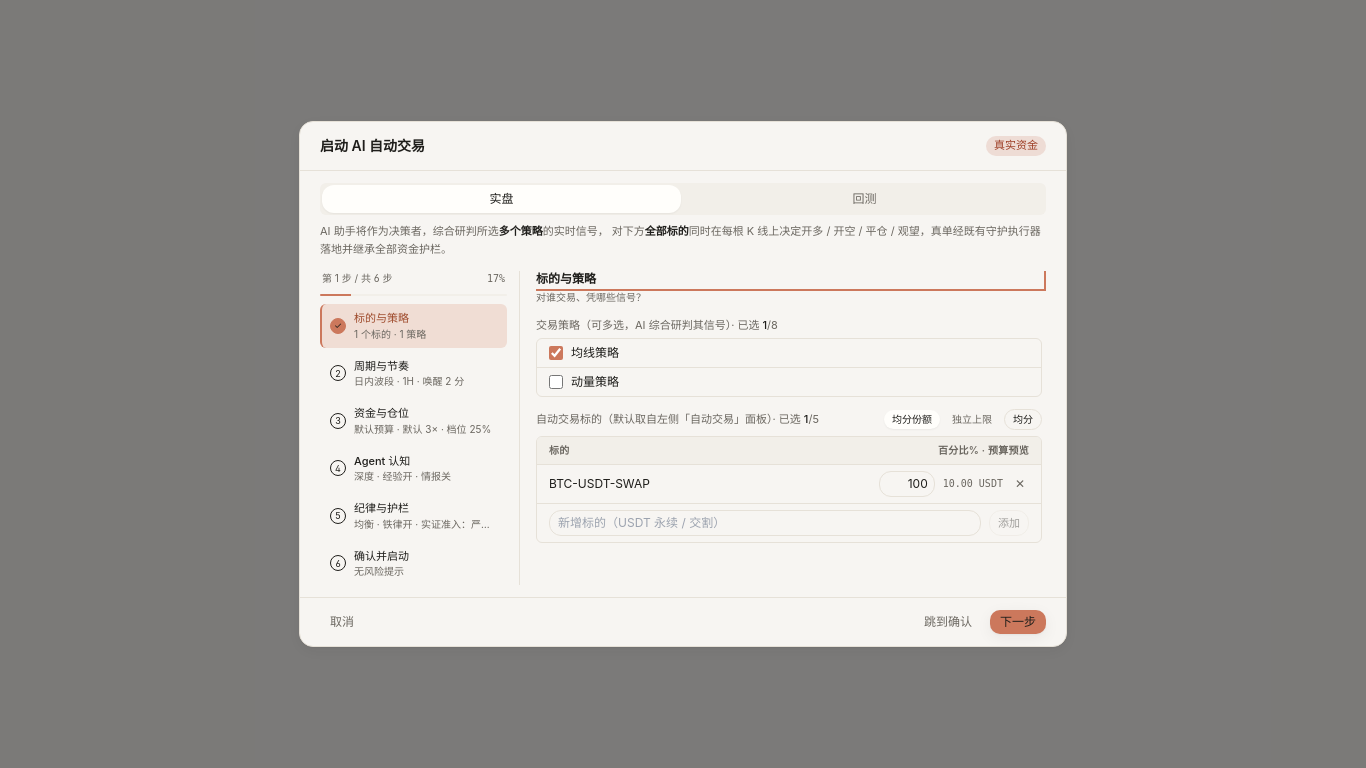
轴 B · 导航契约 › W-5 跨步错误**不**挡本步：第 3 步填非法杠杆后，回第 1 步的「下一步」仍可点
Expected: the text "均线策略" is shown, [571, 345, 619, 361]
Click the tab "3 资金与仓位 默认预算 · 默认 3× · 档位 25%": (414, 421) [320, 399, 507, 443]
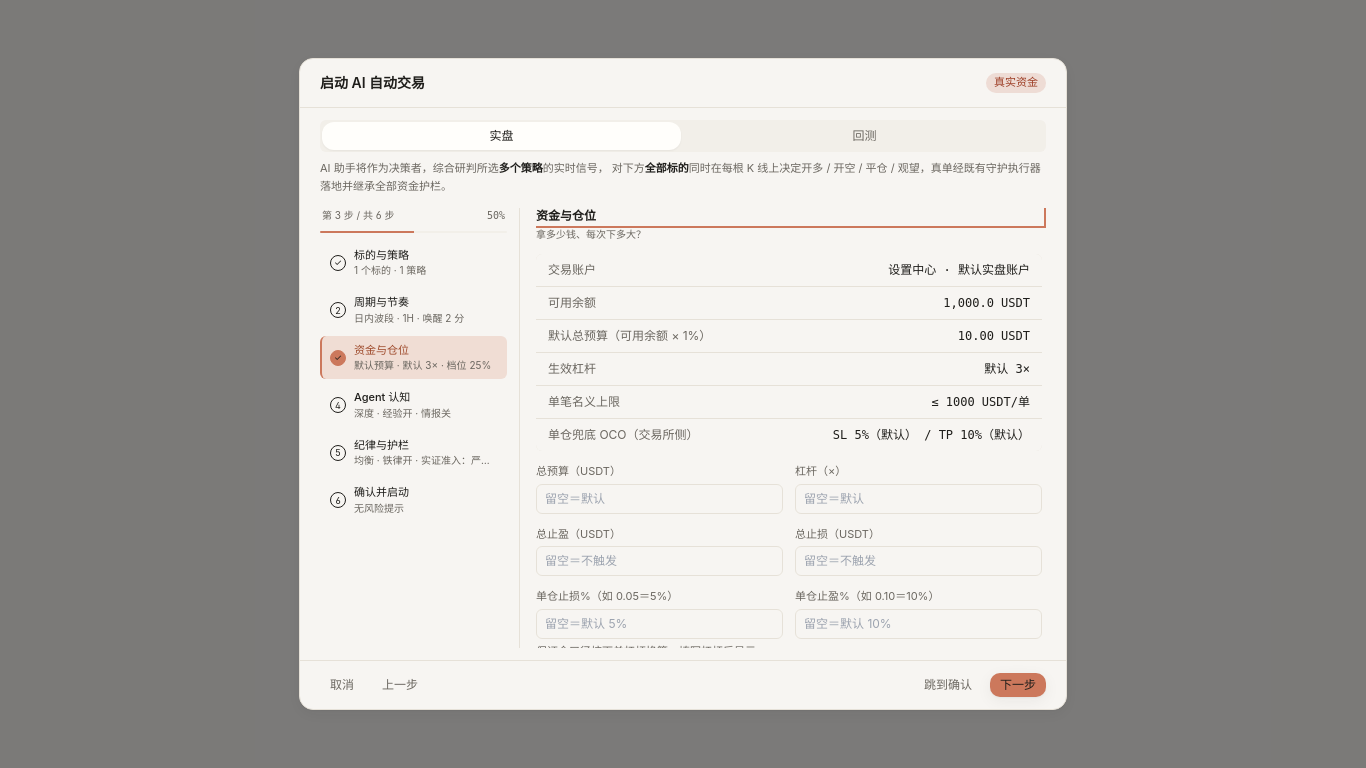
In the field labelled "杠杆（×）": (918, 499) [795, 484, 1042, 514], type "-3"
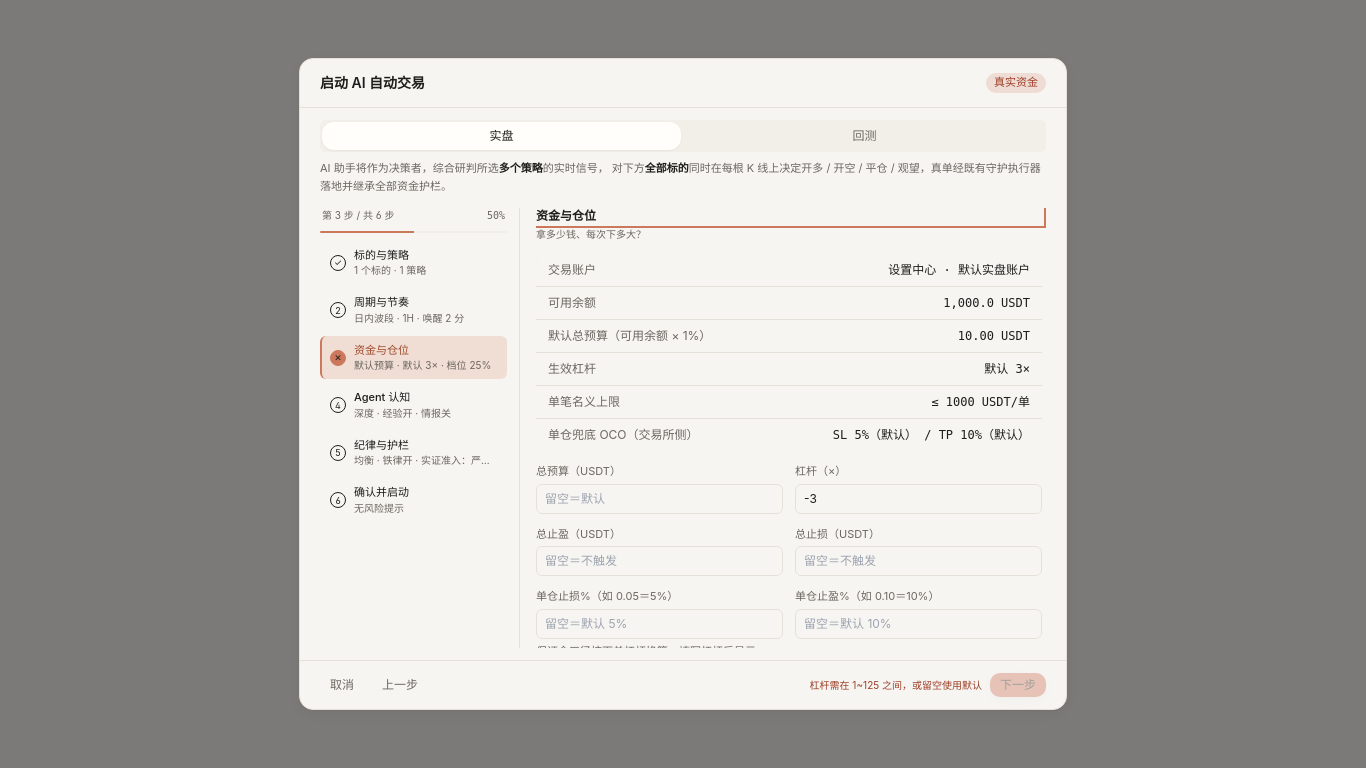
Click the tab "✓ 标的与策略 1 个标的 · 1 策略": (414, 263) [320, 241, 507, 284]
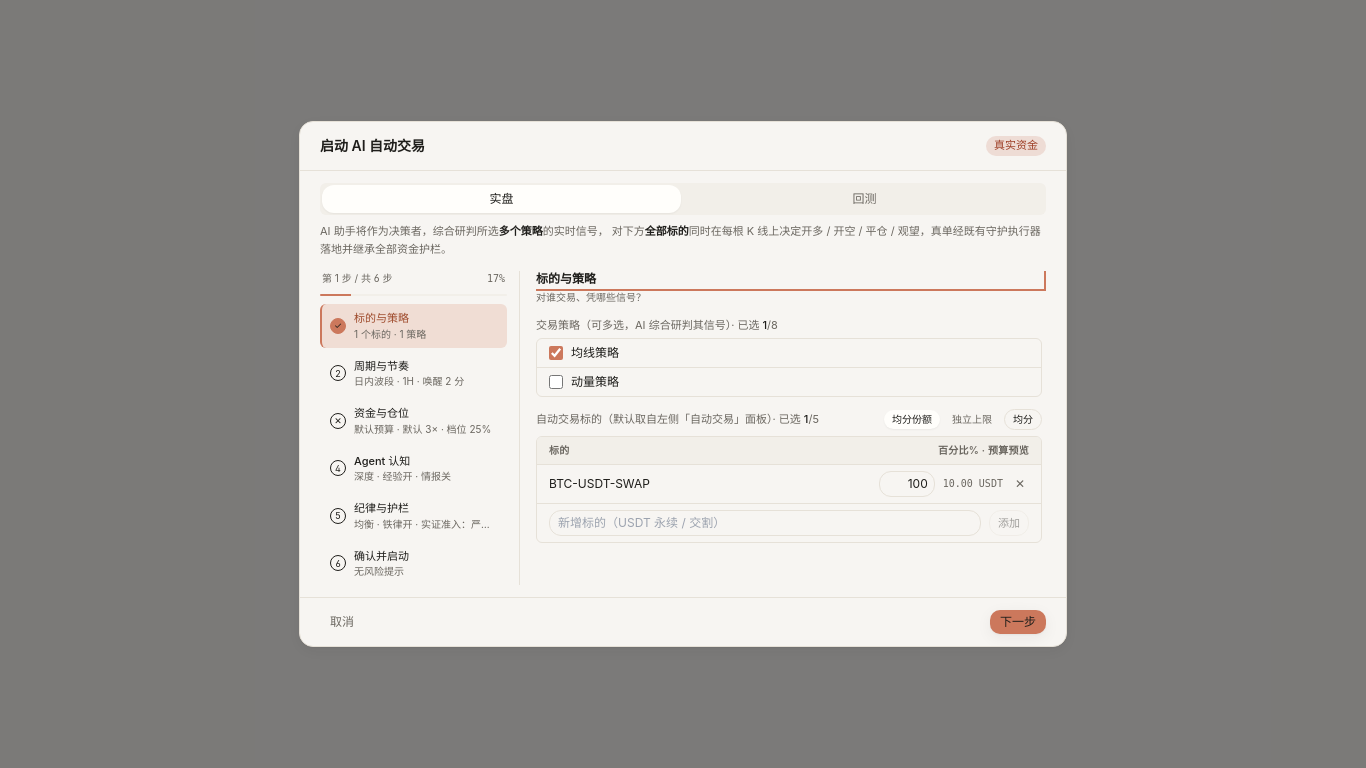
Expected: the button "下一步" is enabled, [990, 610, 1046, 634]
